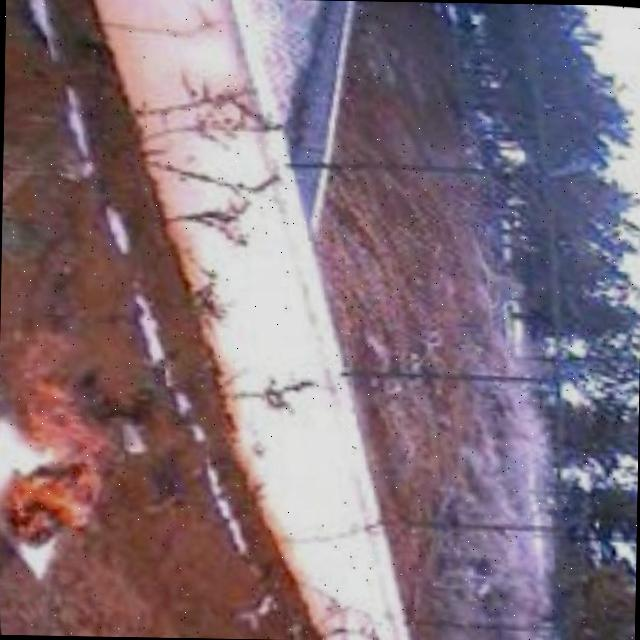fire: (0, 352, 117, 555)
